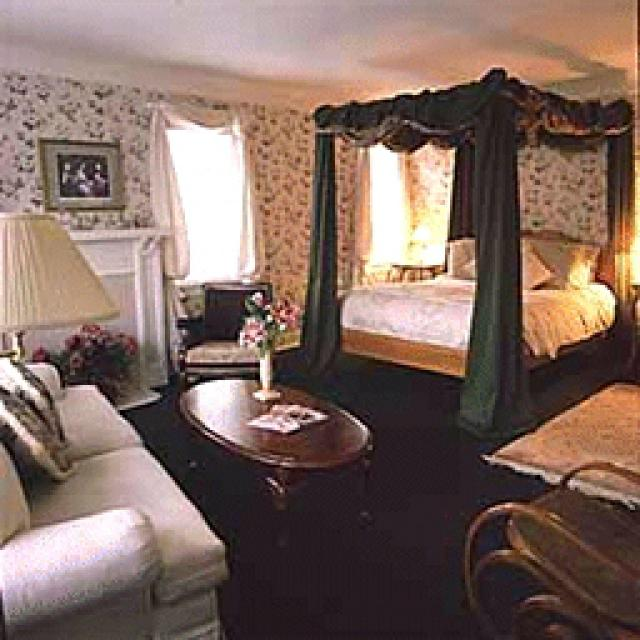2001: (170, 125, 240, 280), (368, 140, 408, 262)
armchair crop: (460, 462, 632, 635), (172, 282, 270, 392)
bed -occluded-: (295, 70, 630, 435)
bouquet: (238, 295, 298, 398), (38, 330, 130, 392)
curtain crop: (290, 75, 628, 428), (148, 102, 262, 278)
fireplace mantle: (65, 228, 165, 382)
lamp crop: (0, 212, 120, 360), (402, 218, 442, 260)
magazine holder: (245, 402, 325, 430)
night stand: (388, 258, 440, 278)
painting crop: (38, 138, 122, 208)
pillow occluded: (0, 392, 75, 480), (0, 355, 62, 440), (528, 240, 595, 288), (518, 242, 552, 292), (442, 235, 472, 275)
rug -partially obscured-: (475, 380, 635, 502)
small table part: (175, 375, 378, 535)
sofa bed: (0, 355, 228, 638)
